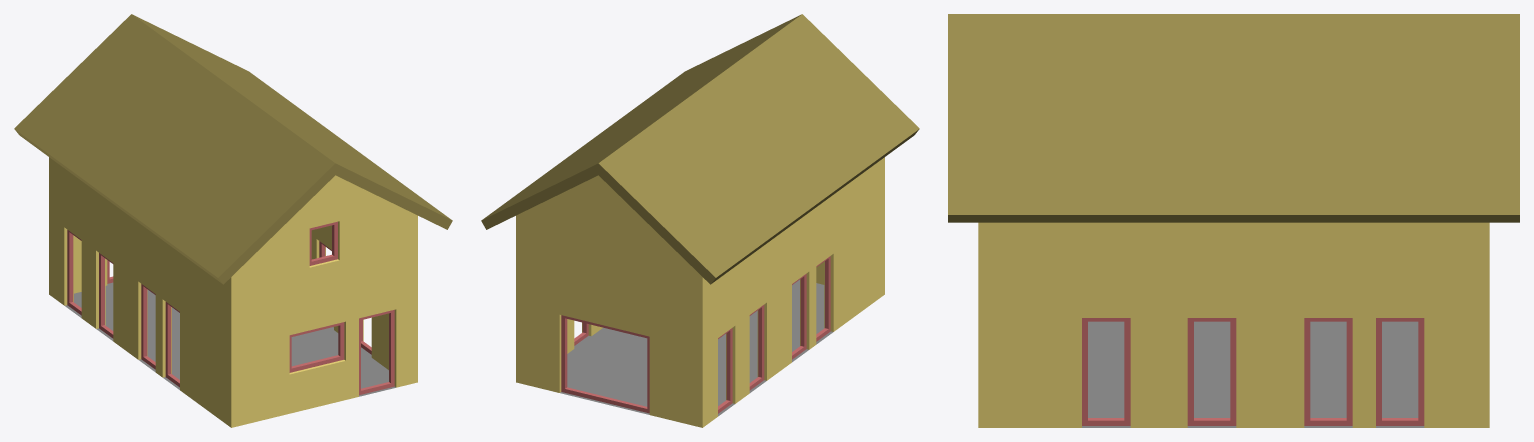
File: result.glb
The picture shows the model from 3 angles, left to right: view 1: azimuth 30°, elevation 25°; view 2: azimuth 150°, elevation 25°; view 3: azimuth 270°, elevation 25°; orthographic projection. The views are drawn at different scales.
Visible parts, largest first — view 1: df02412f-0a84-4a08-b41d-f7fb0fa39760__undefined, 49b7a924-521c-4405-b568-1015d5474ea4__undefined (×2), 735d8c0f-44c0-47c7-80c3-1b64816361ed__Plane_20, 486df1d7-2839-4229-8f08-502c7282ff53__Box, a3617ace-55a6-495c-881e-a249ee524510__Box_3, 755c1bf6-8a8c-40ec-9126-63dfe7e9841c__Box_12, fe64dec0-9082-47cd-88d7-59b1bf5541f9__Box_15, f372509b-c6b6-4f51-abe9-05f83527025f__Box_21, 3e78dd09-964a-466a-9aa8-d655bfd53b27__Box_18, 073afca7-8e66-483a-a29c-7d51620453b0__Box_6; view 2: df02412f-0a84-4a08-b41d-f7fb0fa39760__undefined, 49b7a924-521c-4405-b568-1015d5474ea4__undefined (×2), 735d8c0f-44c0-47c7-80c3-1b64816361ed__Plane_20, eda43fa4-2140-4086-bcc2-486450023b82__Box_9, 3e78dd09-964a-466a-9aa8-d655bfd53b27__Box_18, fe64dec0-9082-47cd-88d7-59b1bf5541f9__Box_15, f372509b-c6b6-4f51-abe9-05f83527025f__Box_21, 755c1bf6-8a8c-40ec-9126-63dfe7e9841c__Box_12; view 3: 49b7a924-521c-4405-b568-1015d5474ea4__undefined, df02412f-0a84-4a08-b41d-f7fb0fa39760__undefined, 735d8c0f-44c0-47c7-80c3-1b64816361ed__Plane_20, 5238bbfb-9aee-40d3-86bc-648b8a4ec7cc__Box_39, d176b657-4053-49e5-be37-1ee6de7bd160__Box_42, 932fdff4-d8ce-4abf-9cbe-dbde7ed8e53c__Box_36, 3dca9a30-4d4e-4c11-8a11-408e9ffc1abd__Box_45.
Boxes of the visible parts, x1,y1,x2,y2 form: df02412f-0a84-4a08-b41d-f7fb0fa39760__undefined: (49, 157, 417, 427); 49b7a924-521c-4405-b568-1015d5474ea4__undefined (×2): (14, 14, 452, 284); 735d8c0f-44c0-47c7-80c3-1b64816361ed__Plane_20: (64, 282, 395, 396); 486df1d7-2839-4229-8f08-502c7282ff53__Box: (359, 310, 394, 394); a3617ace-55a6-495c-881e-a249ee524510__Box_3: (289, 322, 344, 372); 755c1bf6-8a8c-40ec-9126-63dfe7e9841c__Box_12: (165, 302, 179, 387); fe64dec0-9082-47cd-88d7-59b1bf5541f9__Box_15: (141, 284, 155, 369); f372509b-c6b6-4f51-abe9-05f83527025f__Box_21: (67, 230, 81, 315); 3e78dd09-964a-466a-9aa8-d655bfd53b27__Box_18: (99, 253, 113, 338); 073afca7-8e66-483a-a29c-7d51620453b0__Box_6: (309, 221, 337, 265); df02412f-0a84-4a08-b41d-f7fb0fa39760__undefined: (516, 157, 884, 427); 49b7a924-521c-4405-b568-1015d5474ea4__undefined (×2): (481, 14, 919, 284); 735d8c0f-44c0-47c7-80c3-1b64816361ed__Plane_20: (560, 279, 833, 416); eda43fa4-2140-4086-bcc2-486450023b82__Box_9: (561, 315, 649, 413); 3e78dd09-964a-466a-9aa8-d655bfd53b27__Box_18: (749, 305, 764, 390); fe64dec0-9082-47cd-88d7-59b1bf5541f9__Box_15: (792, 273, 806, 359); f372509b-c6b6-4f51-abe9-05f83527025f__Box_21: (718, 328, 732, 413); 755c1bf6-8a8c-40ec-9126-63dfe7e9841c__Box_12: (816, 256, 830, 341); 49b7a924-521c-4405-b568-1015d5474ea4__undefined: (948, 14, 1519, 222); df02412f-0a84-4a08-b41d-f7fb0fa39760__undefined: (978, 222, 1489, 427); 735d8c0f-44c0-47c7-80c3-1b64816361ed__Plane_20: (1082, 321, 1424, 427); 5238bbfb-9aee-40d3-86bc-648b8a4ec7cc__Box_39: (1187, 318, 1236, 425); d176b657-4053-49e5-be37-1ee6de7bd160__Box_42: (1304, 318, 1352, 425); 932fdff4-d8ce-4abf-9cbe-dbde7ed8e53c__Box_36: (1082, 318, 1130, 425); 3dca9a30-4d4e-4c11-8a11-408e9ffc1abd__Box_45: (1376, 318, 1424, 425).
Size of the model in its own units: 627 by 637 by 943.
